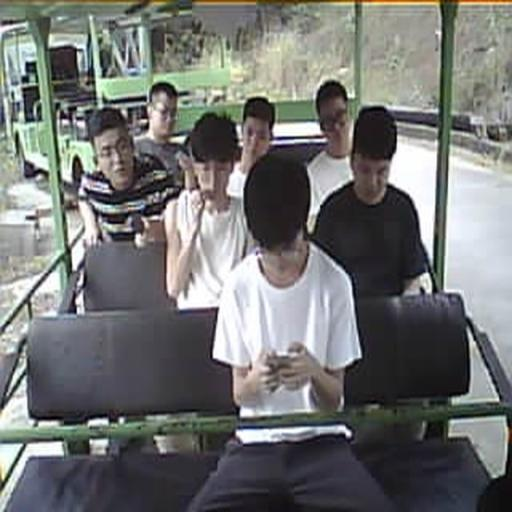persona: (211, 151, 363, 420), (313, 104, 435, 296), (163, 111, 252, 311), (76, 106, 181, 250), (304, 79, 356, 231), (132, 81, 190, 186), (226, 95, 276, 199)
